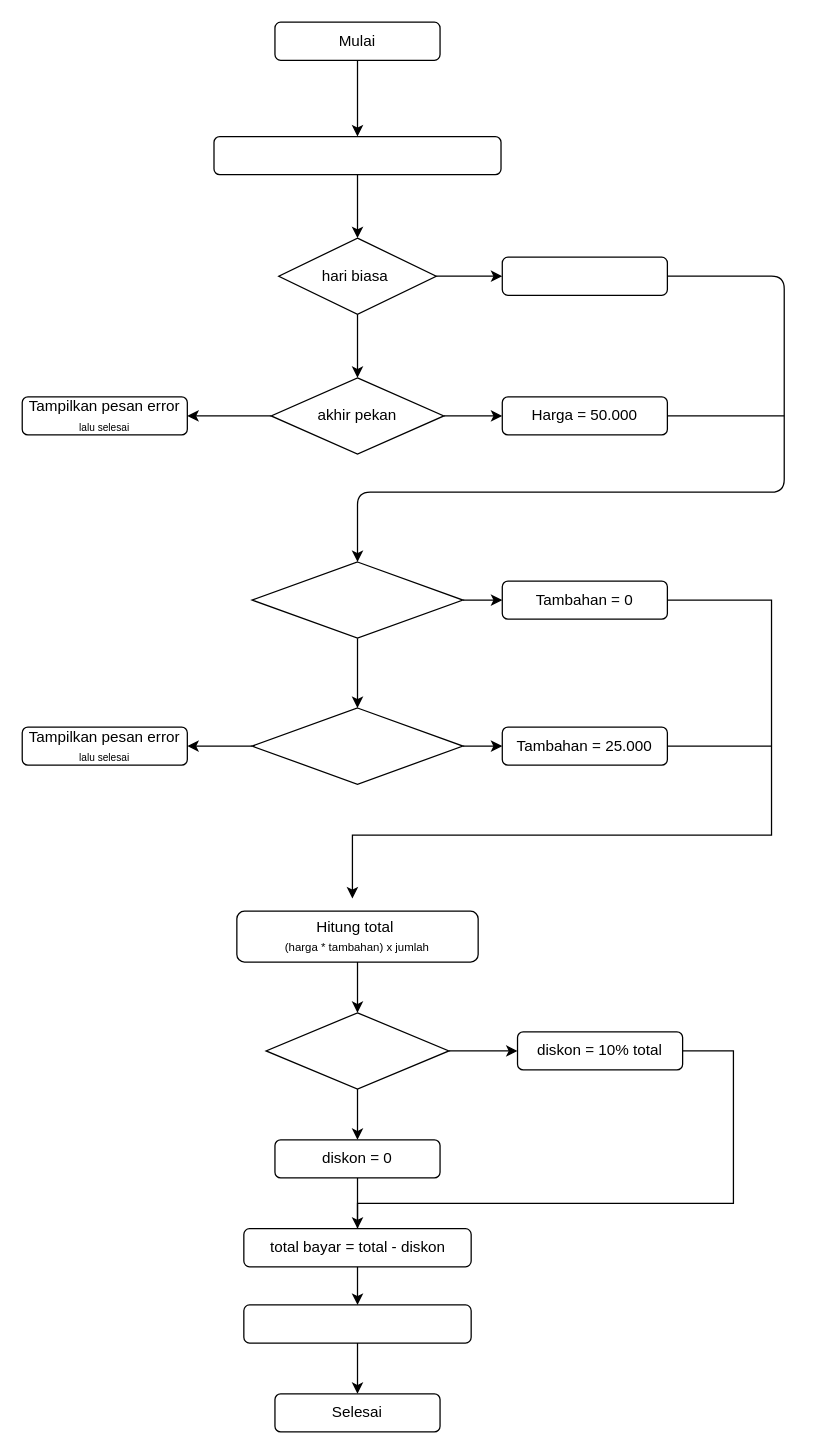
Image size: 817x1454. Some labels were removed from this diagram. Here are the shapes that lost their labels. From the top down, the box of each, then its label:
(213, 135, 501, 175): Input nama, hari, studio, jumlah
(501, 256, 667, 295): Harga = 35.000
(251, 561, 463, 638): Studio regular
(251, 707, 463, 784): Studio vip
(265, 1012, 449, 1089): jumlah >= 5
(243, 1304, 471, 1343): Output: Struk pembelian
